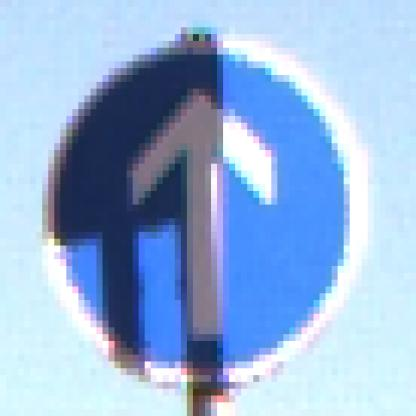AheadOnly: (37, 35, 375, 383)
